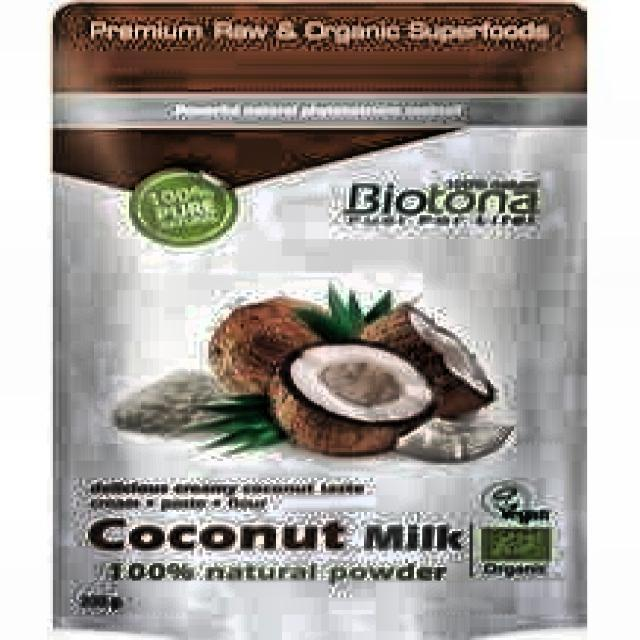cardboard: (50, 0, 587, 638)
